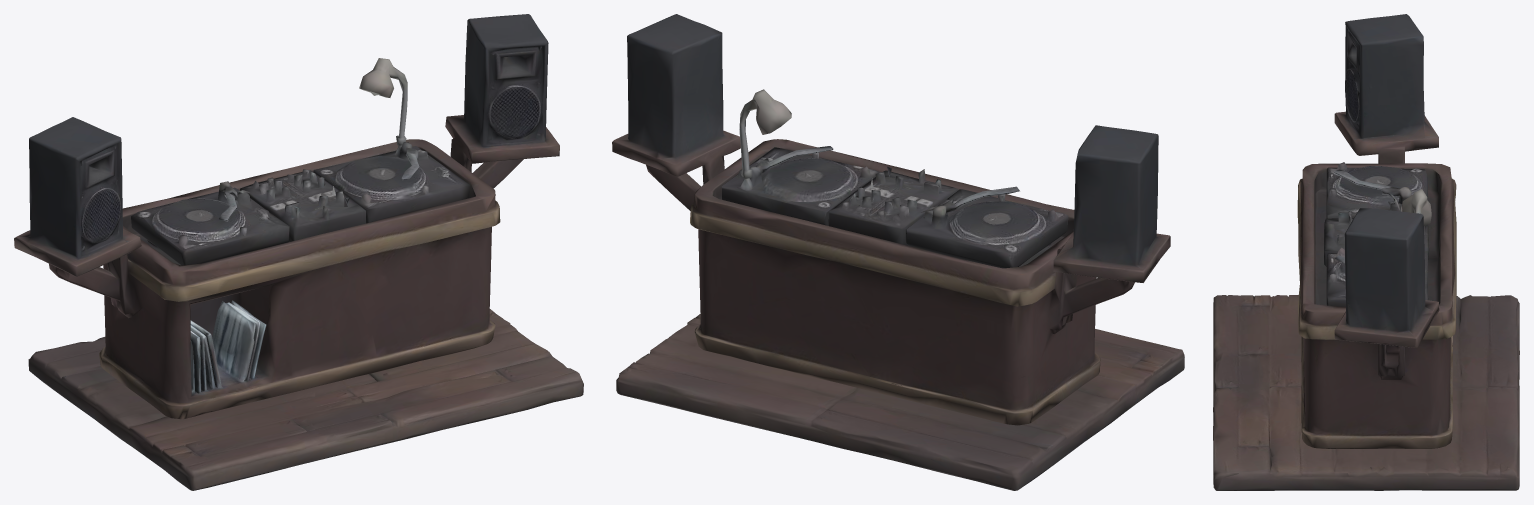
File: nightclub_dj_booth.glb
3 renders of one model, left to right at view 1: azimuth 30°, elevation 25°; view 2: azimuth 150°, elevation 25°; view 3: azimuth 270°, elevation 25°, orthographic. The views are drawn at different scales.
Parts seen in each view (by area): view 1: tripo_node_53147789-f9b3-457a-a5a1-ede2670a3eb5; view 2: tripo_node_53147789-f9b3-457a-a5a1-ede2670a3eb5; view 3: tripo_node_53147789-f9b3-457a-a5a1-ede2670a3eb5.
Boxes of the visible parts, x1=… form: tripo_node_53147789-f9b3-457a-a5a1-ede2670a3eb5: x1=14, y1=14, x2=583, y2=490; tripo_node_53147789-f9b3-457a-a5a1-ede2670a3eb5: x1=612, y1=14, x2=1184, y2=490; tripo_node_53147789-f9b3-457a-a5a1-ede2670a3eb5: x1=1213, y1=14, x2=1519, y2=490.
Size of the model in its own units: 1 by 0.5478 by 0.5496.
1 material, 1 textured.
